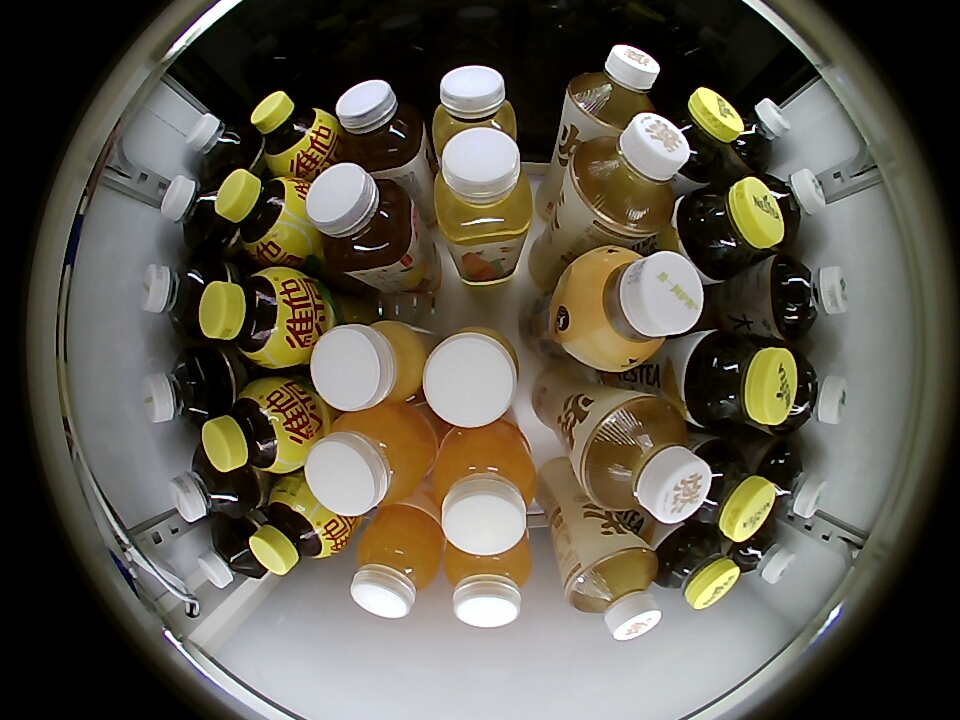asamu: (562, 247, 705, 371)
chacui: (684, 331, 797, 431), (678, 177, 785, 280), (678, 439, 775, 542), (653, 525, 740, 610), (663, 87, 741, 180)
chapai: (306, 163, 416, 273), (335, 79, 426, 172)
chapai2: (432, 128, 533, 246), (431, 65, 518, 153)
damaicha: (770, 257, 850, 339), (776, 351, 847, 433), (759, 443, 827, 520), (758, 168, 826, 244), (727, 97, 791, 171), (730, 520, 794, 584)
nfc: (310, 320, 426, 411), (422, 326, 521, 428)
rancha-2: (577, 394, 710, 524), (566, 113, 690, 237), (562, 539, 662, 642), (566, 44, 660, 135)
weic: (306, 407, 436, 515), (432, 423, 537, 556), (350, 505, 444, 619), (442, 534, 532, 628)
weitaningmeng-bottle: (199, 267, 310, 368), (201, 380, 305, 475), (249, 478, 346, 575), (214, 167, 310, 264), (251, 90, 335, 173)
wulongcha: (140, 259, 215, 335), (169, 451, 248, 523), (143, 352, 215, 427), (160, 175, 227, 248), (186, 112, 256, 177), (197, 521, 263, 589)
